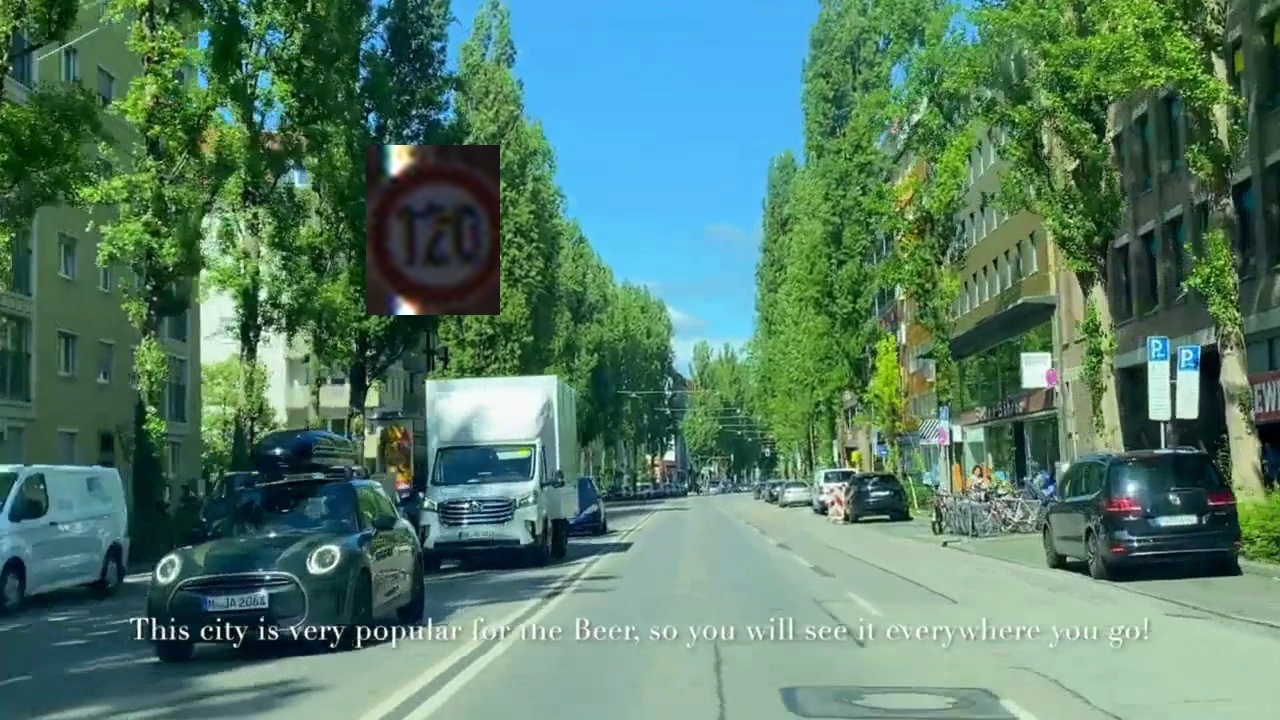Speed 120: (366, 145, 500, 315)
